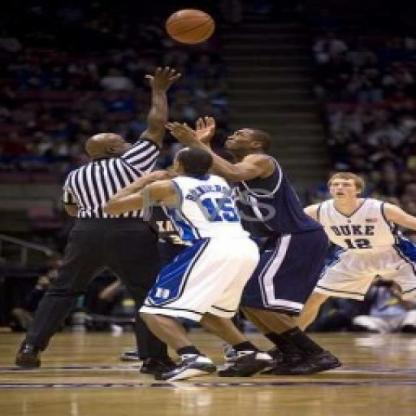basketball: (163, 1, 217, 50)
